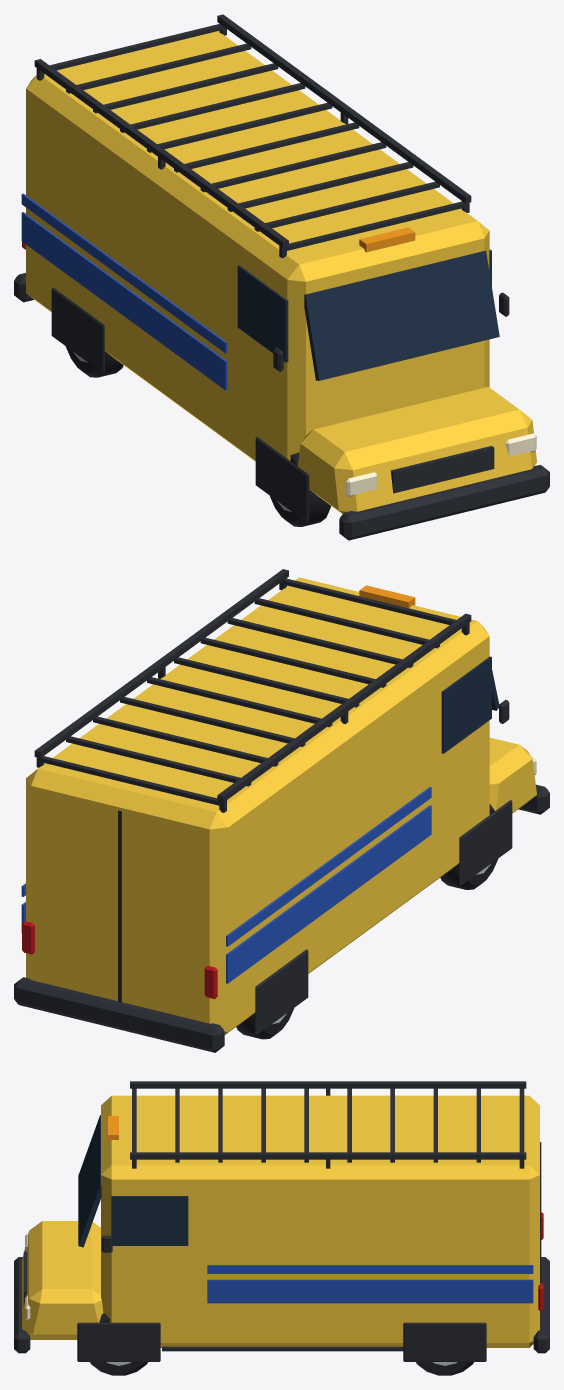
The model's file is van_large.glb.
The picture shows the model from 3 angles, top to bottom: view 1: azimuth 30°, elevation 25°; view 2: azimuth 150°, elevation 25°; view 3: azimuth 270°, elevation 25°; orthographic projection. The views are drawn at different scales.
Visible parts, largest first — view 1: body, wheel_FR, wheel_RR; view 2: body, wheel_FR, wheel_RR; view 3: body, wheel_FL, wheel_RL.
Part boxes in pixels (x1=…): body: x1=14, y1=14, x2=549, y2=540; wheel_FR: x1=270, y1=452, x2=331, y2=526; wheel_RR: x1=65, y1=346, x2=123, y2=377; body: x1=14, y1=569, x2=549, y2=1052; wheel_FR: x1=440, y1=804, x2=497, y2=889; wheel_RR: x1=236, y1=1008, x2=294, y2=1039; body: x1=14, y1=1081, x2=549, y2=1361; wheel_FL: x1=90, y1=1313, x2=147, y2=1375; wheel_RL: x1=416, y1=1362, x2=473, y2=1375.
Size of the model in its own units: 2.36 by 2.69 by 5.92.
